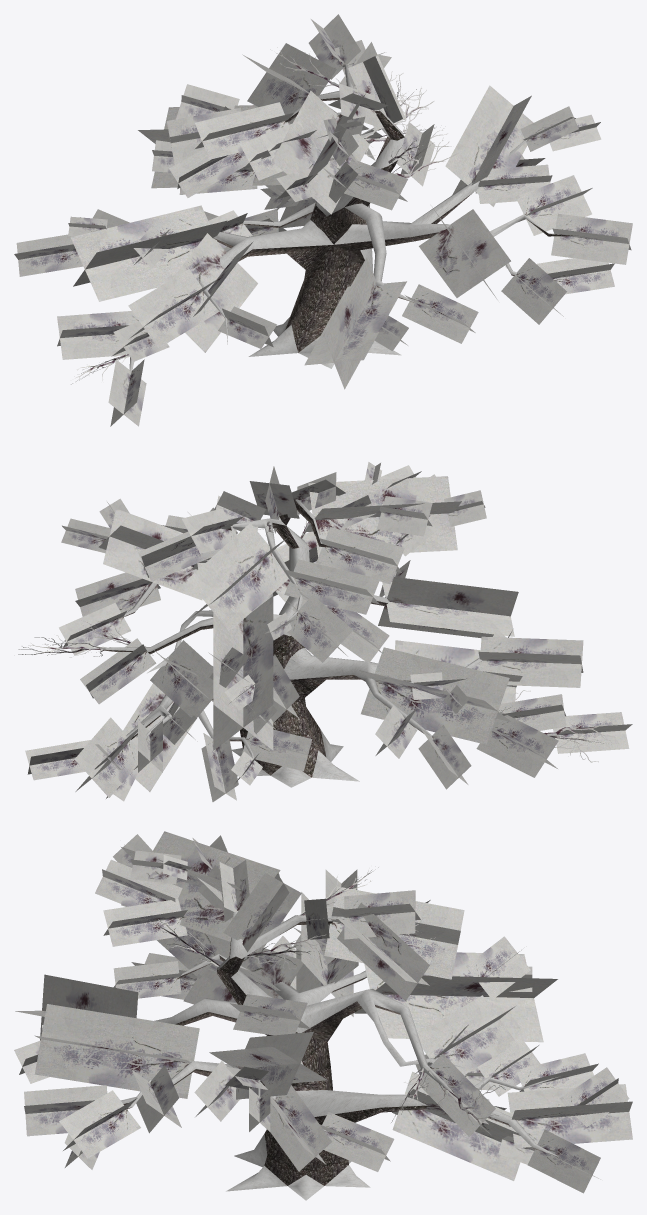
File: tree_wide_dead_snow.fbx
The picture shows the model from 3 angles, top to bottom: view 1: azimuth 30°, elevation 25°; view 2: azimuth 150°, elevation 25°; view 3: azimuth 270°, elevation 25°; orthographic projection. The views are drawn at different scales.
Visible parts, largest first — view 1: mesh_2, mesh_1, mesh_0, mesh_3; view 2: mesh_2, mesh_1, mesh_0, mesh_3; view 3: mesh_2, mesh_1, mesh_0, mesh_3.
Boxes of the visible parts, box(x1,y1,x2,y2) form: mesh_2: box(14, 14, 632, 426); mesh_1: box(129, 64, 568, 374); mesh_0: box(213, 97, 572, 352); mesh_3: box(71, 47, 458, 384); mesh_2: box(25, 462, 632, 801); mesh_1: box(73, 499, 563, 787); mesh_0: box(75, 499, 562, 777); mesh_3: box(18, 520, 617, 762); mesh_2: box(14, 831, 632, 1193); mesh_1: box(107, 910, 558, 1200); mesh_0: box(123, 919, 553, 1185); mesh_3: box(147, 867, 505, 1134).
Size of the model in its own units: 2330 by 1158 by 2068.
Materials: 4 (4 with a texture image).
